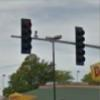traffic lights: (22, 19, 32, 53)
